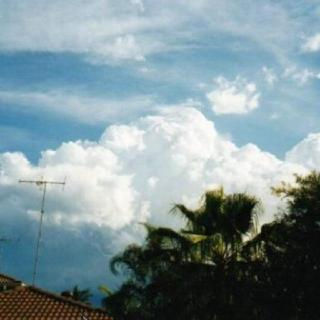Cirrostratus: (0, 0, 320, 252)
